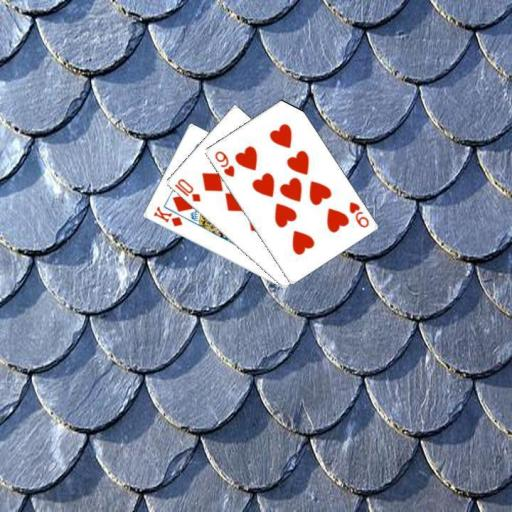card-corner: (171, 176, 202, 203), (150, 204, 184, 228), (211, 147, 236, 179), (346, 198, 370, 229)
